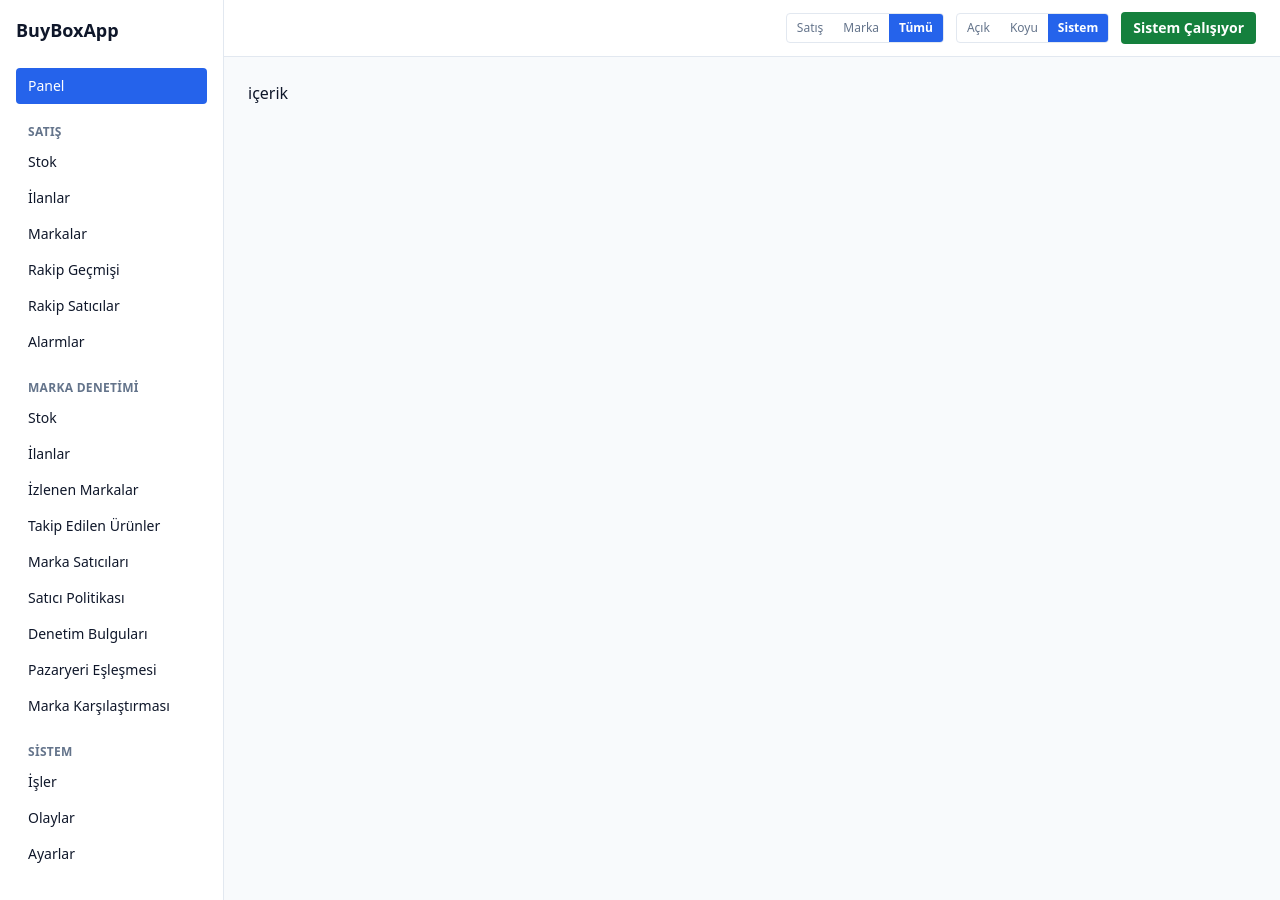
Test: NavShell › modules (doc 17 §1.3) › both installed: both groups by default, and the view switch narrows them
Expected: the element named "Menü görünümü" is shown, [786,13,944,43]
Expected: the link "Rakip Geçmişi" is shown, [28,260,120,279]
Click the button "Marka".
click(861, 28)  # box [833,14,889,42]
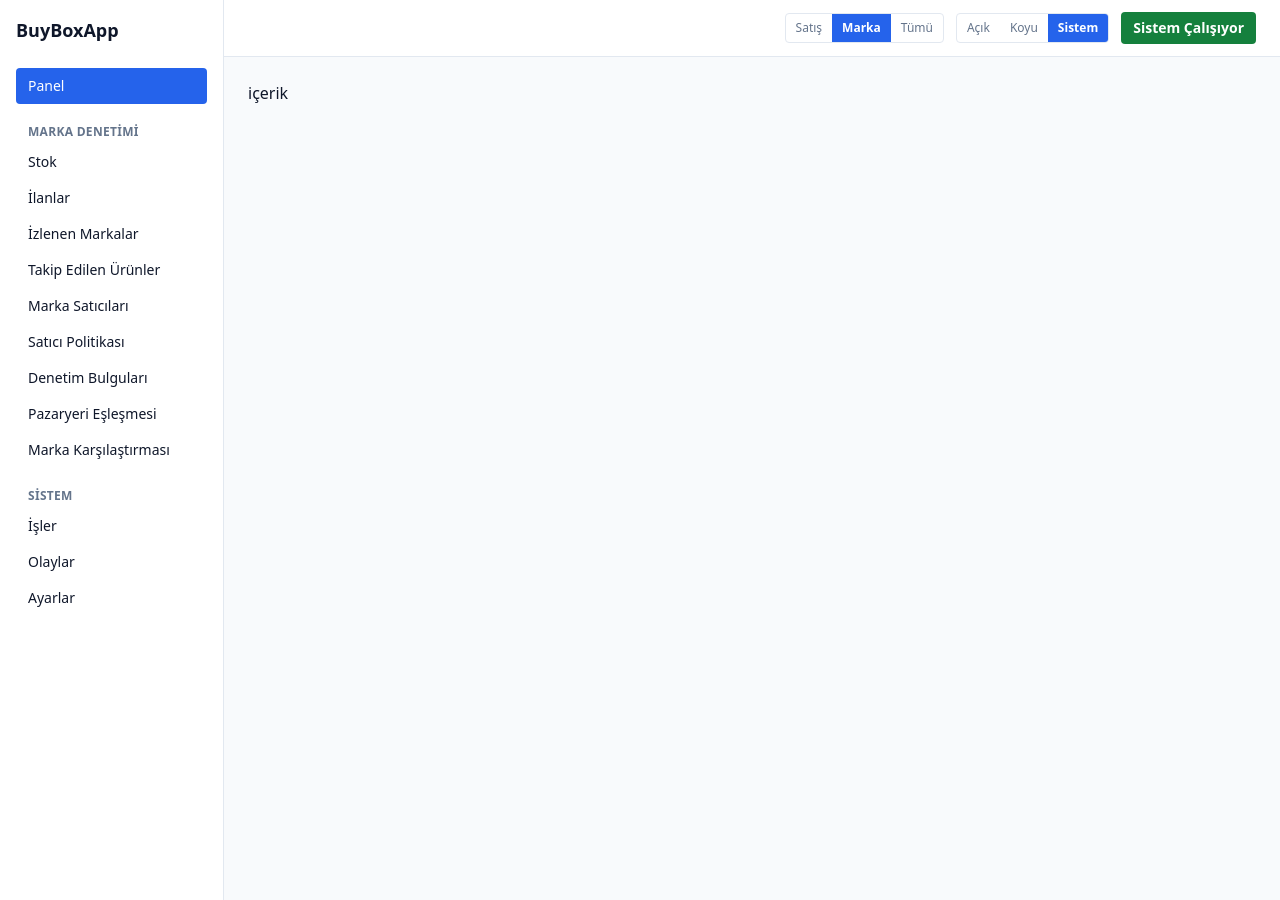
Expected: the link "Takip Edilen Ürünler" is shown, [28,260,160,279]
Result: the link "Rakip Geçmişi" is gone
